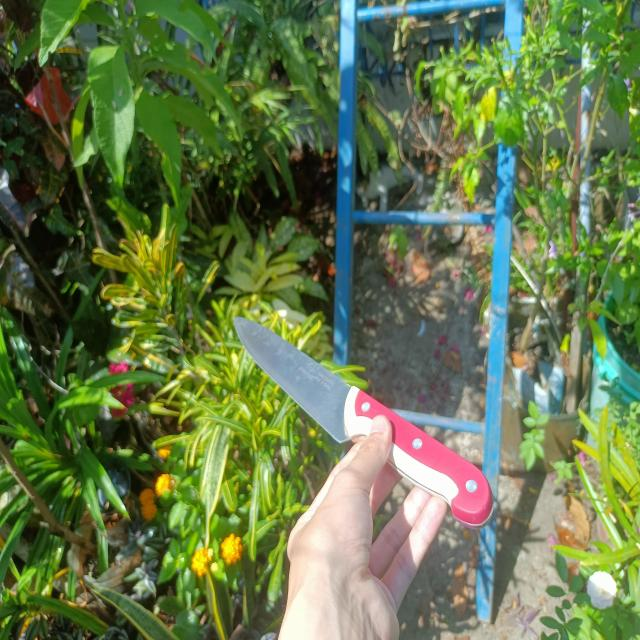knife: (235, 316, 492, 526)
